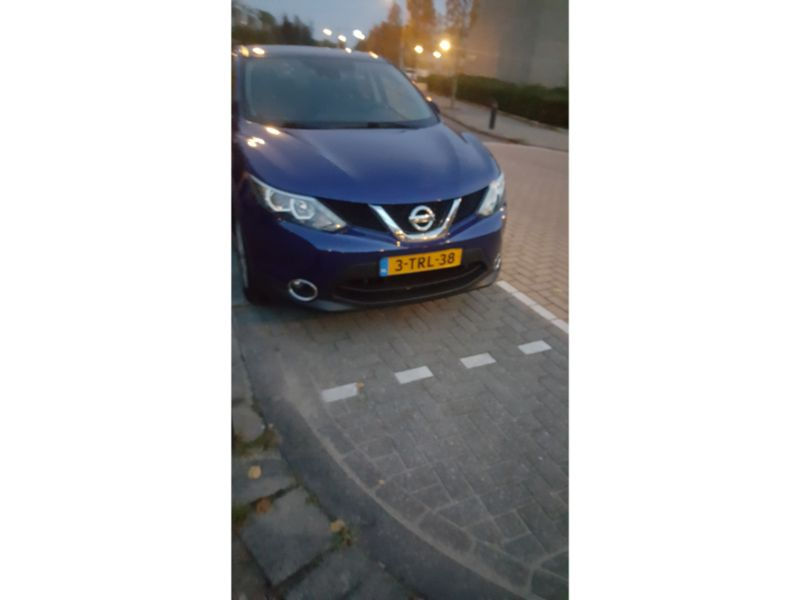kenteken: (384, 248, 463, 276)
